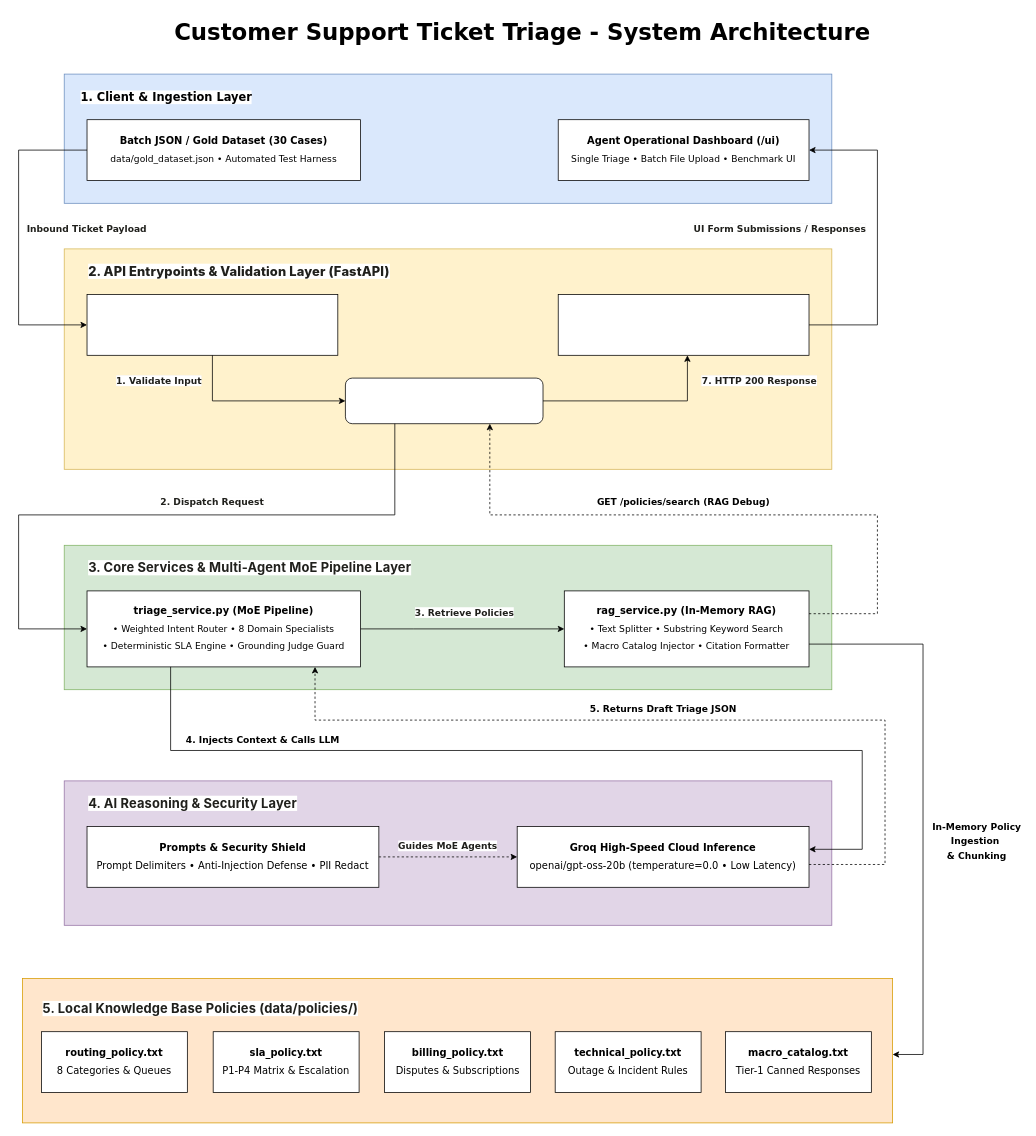
Image size: 1036x1136. Some labels were removed from this diagram. The shapes that lost their labels are listed below. From the top down, each one's box as (x1, y1, x2, y2) in pixels, then its label:
(86, 294, 338, 355): TicketInput / BatchTicketInput Pydantic V2 Strict Input Schema
(557, 294, 809, 355): TriageResult (Structured JSON) Queue, Priority, Macro ID & Citations
(345, 377, 543, 424): POST /tickets/triage & /batch
